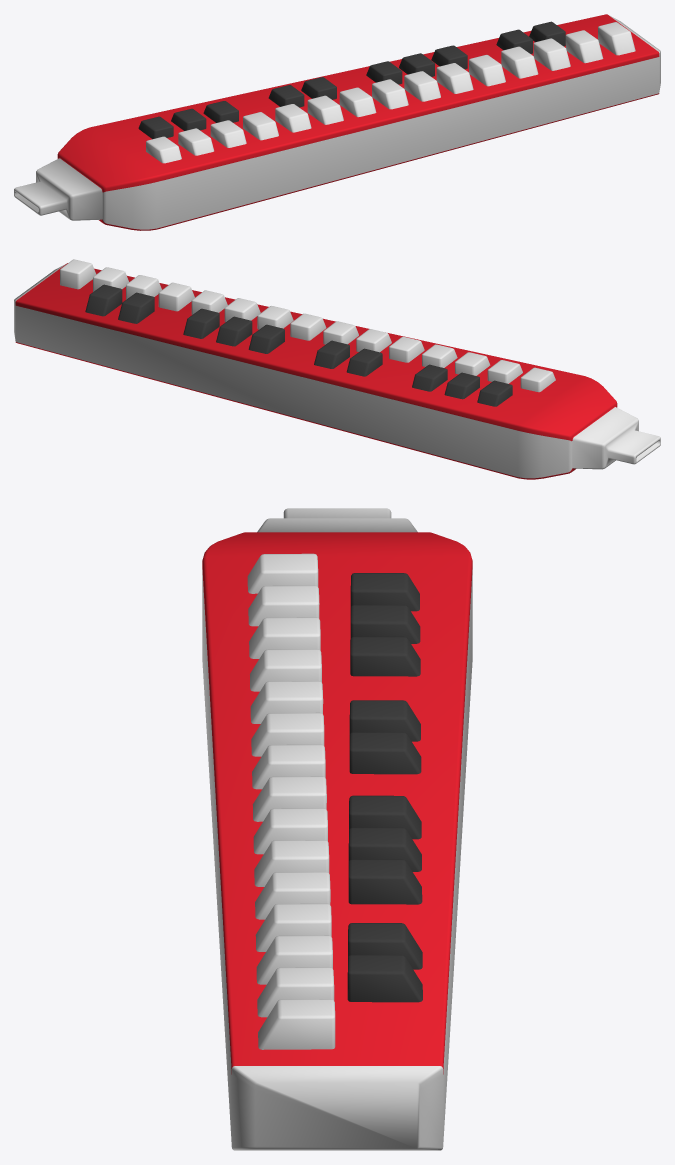
The model's file is melodica.fbx.
The picture shows the model from 3 angles, top to bottom: view 1: azimuth 30°, elevation 25°; view 2: azimuth 150°, elevation 25°; view 3: azimuth 270°, elevation 25°; orthographic projection. The views are drawn at different scales.
Parts seen in each view (by area): view 1: Melodica, White Key, Black Key; view 2: Melodica, White Key, Black Key; view 3: Melodica, White Key, Black Key.
Part boxes in pixels (x1,y1,x2,y2): Melodica: (14, 14, 660, 230); White Key: (146, 22, 635, 163); Black Key: (138, 21, 565, 139); Melodica: (14, 263, 660, 479); White Key: (60, 259, 555, 392); Black Key: (85, 284, 512, 406); Melodica: (202, 508, 472, 1150); White Key: (247, 553, 335, 1049); Black Key: (347, 573, 422, 1002).
Size of the model in its own units: 68.39 by 6.89 by 13.04.
